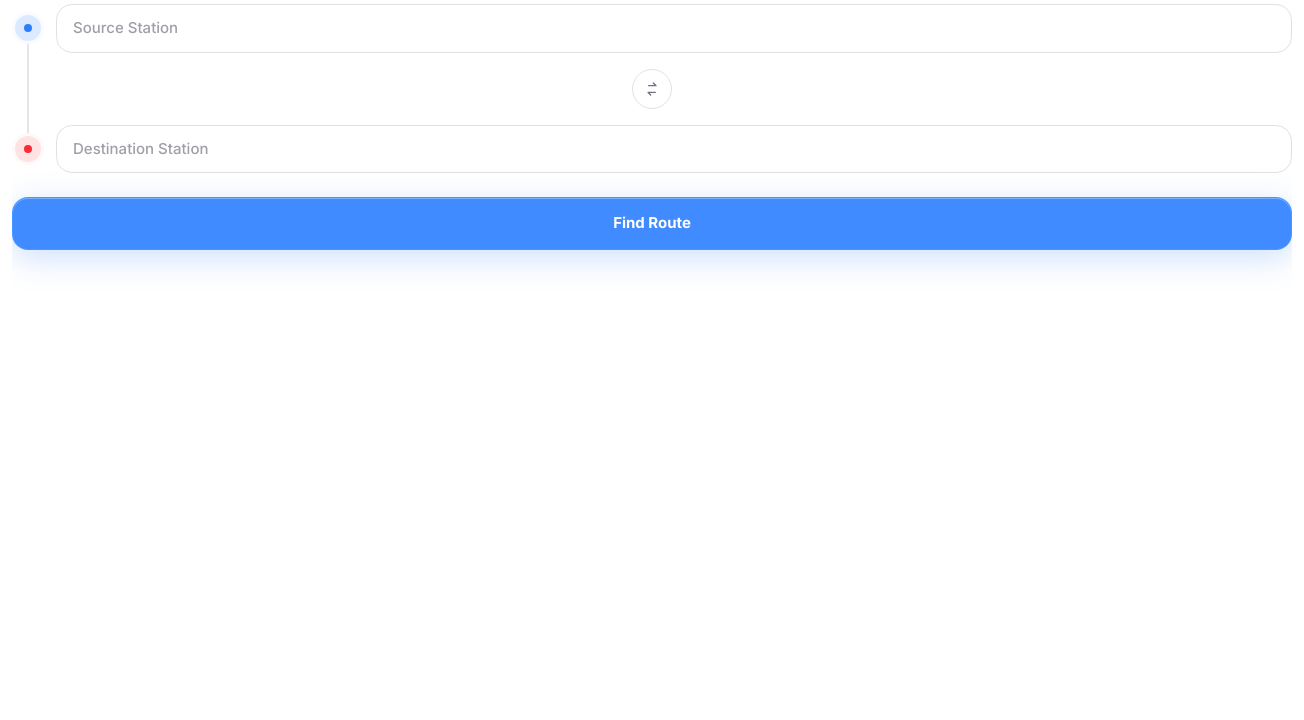
Test: RouteVisualizer › manages data fetching and rendering the active route parameters
Type "A" into the field with placeholder "Source Station".
click(674, 28); type("A")  # box [56,4,1292,52]
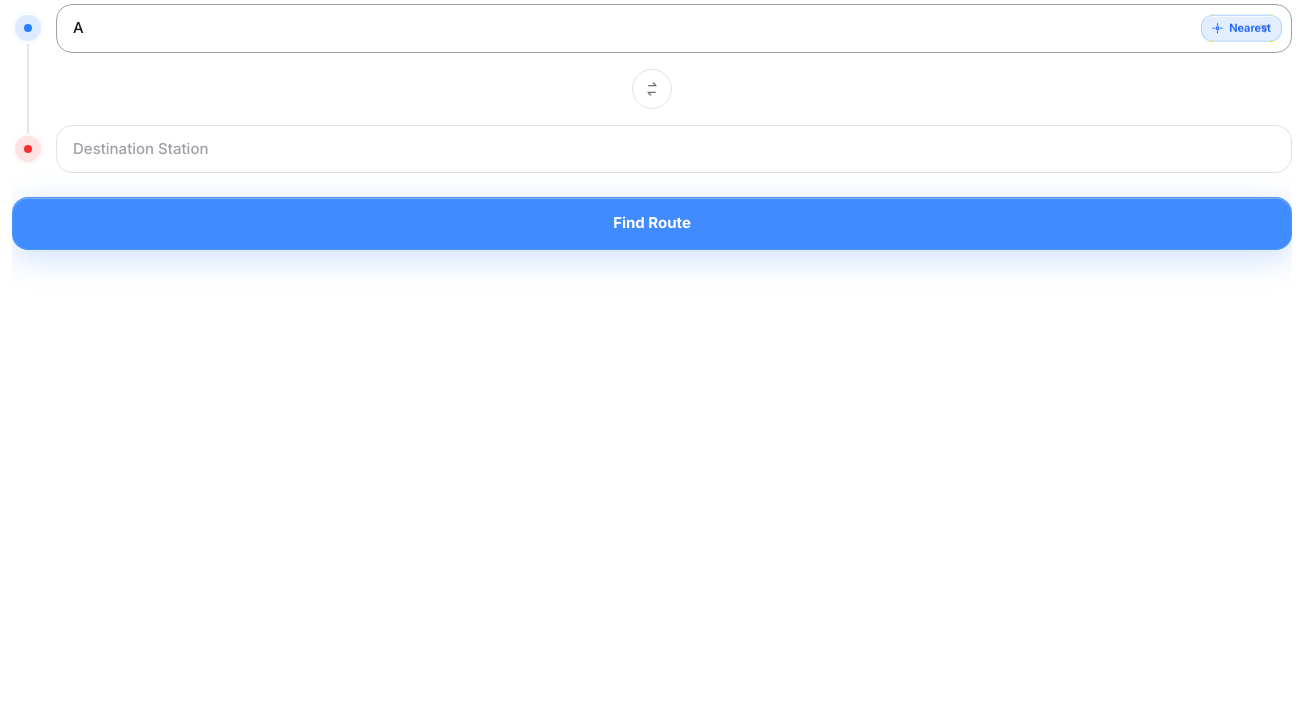
Type "B" into the field with placeholder "Destination Station".
click(674, 149); type("B")  # box [56,124,1292,173]
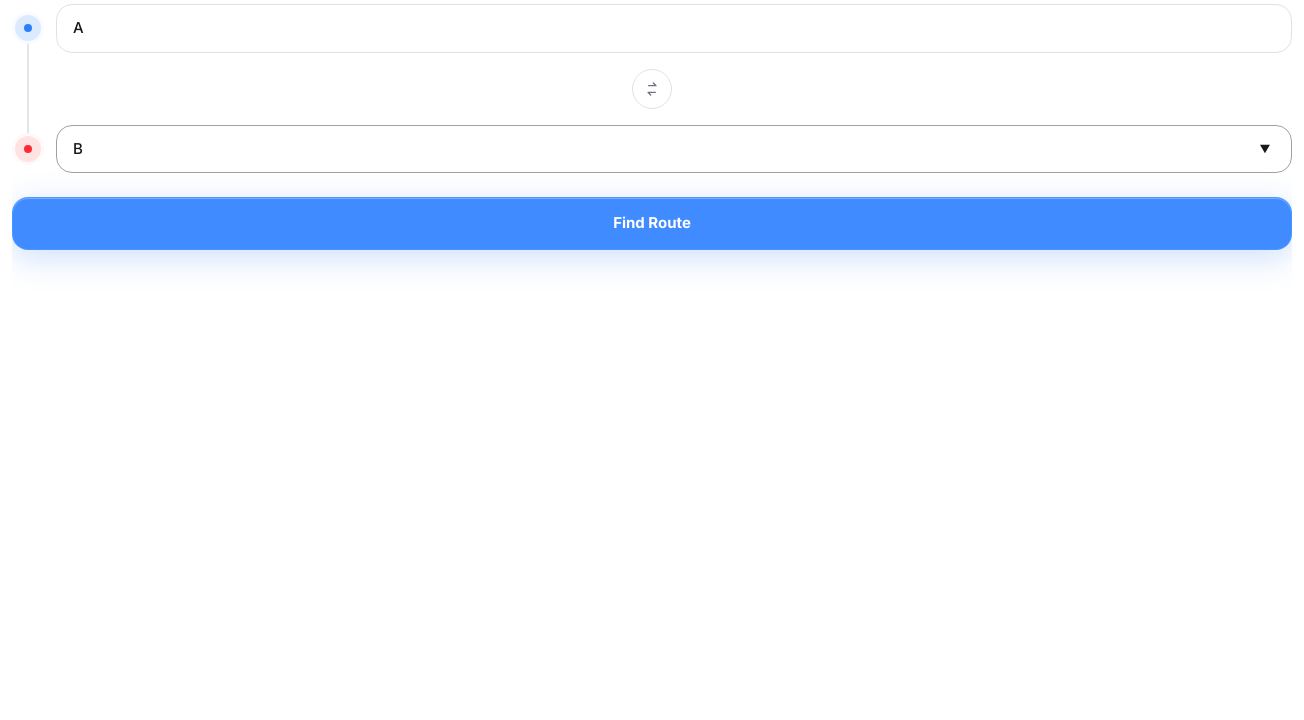
Click the button "Find Route".
click(652, 223)  # box [12,197,1292,250]
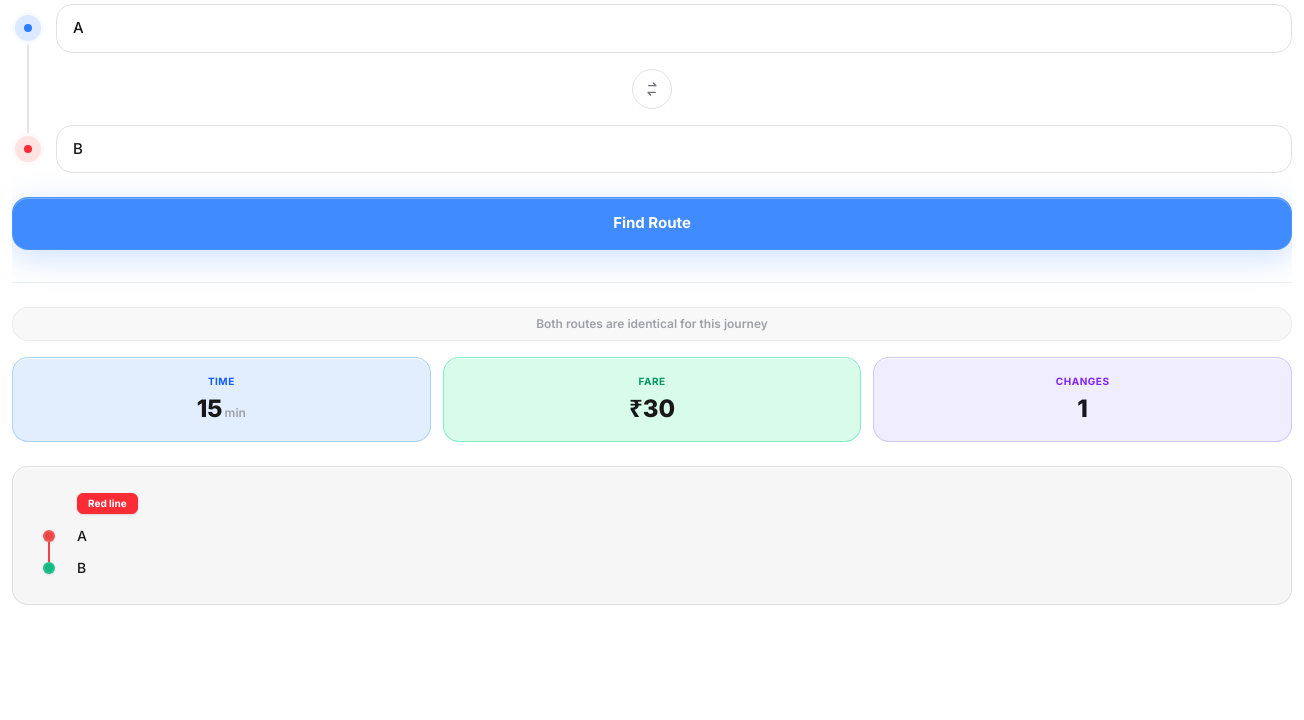
Expected: the text "15" is shown, [197,394,223,422]
Expected: the text "₹30" is shown, [629,394,675,422]
Expected: the text "1" is shown, [1077,394,1088,422]
